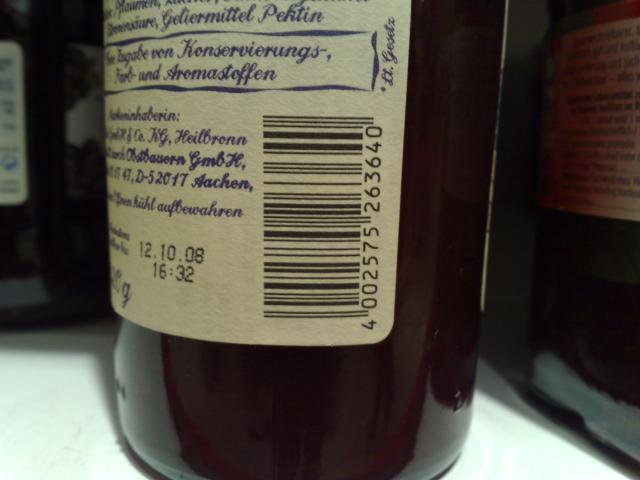Barcode: (258, 108, 387, 335)
